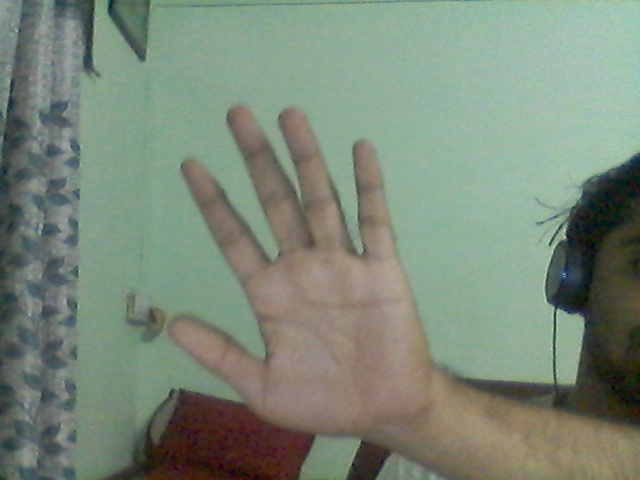Hello: (159, 89, 436, 462)
